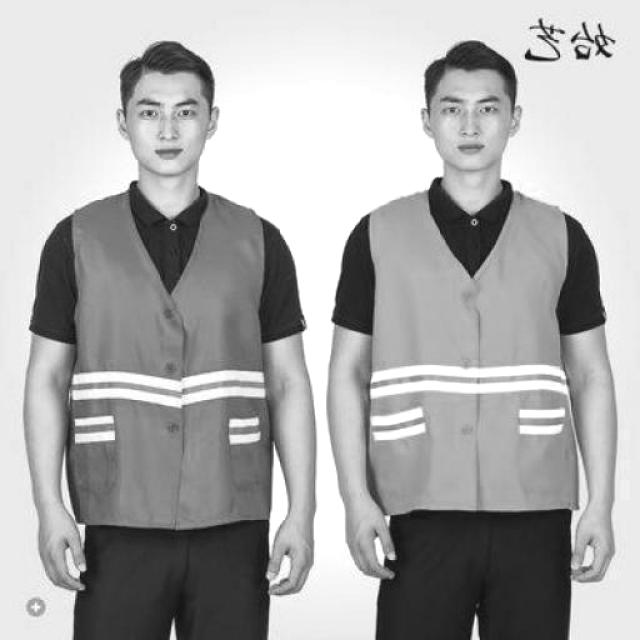face_nomask: (128, 95, 208, 166), (437, 93, 507, 167)
hand_noglove: (563, 505, 625, 584), (338, 497, 398, 578), (32, 512, 90, 594), (262, 518, 318, 600)
head_nohelmet: (413, 30, 528, 101), (110, 36, 229, 96)
person: (322, 32, 630, 640), (21, 36, 331, 640)
vest: (64, 189, 272, 526), (369, 185, 573, 520)
